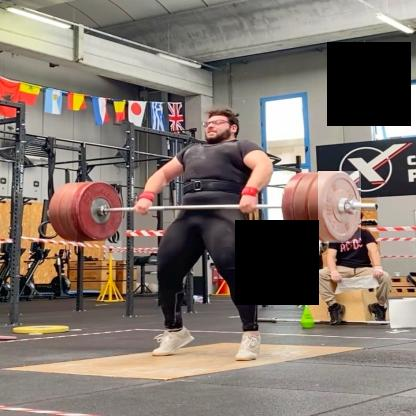barbell: (319, 173, 362, 245), (78, 182, 123, 242)
